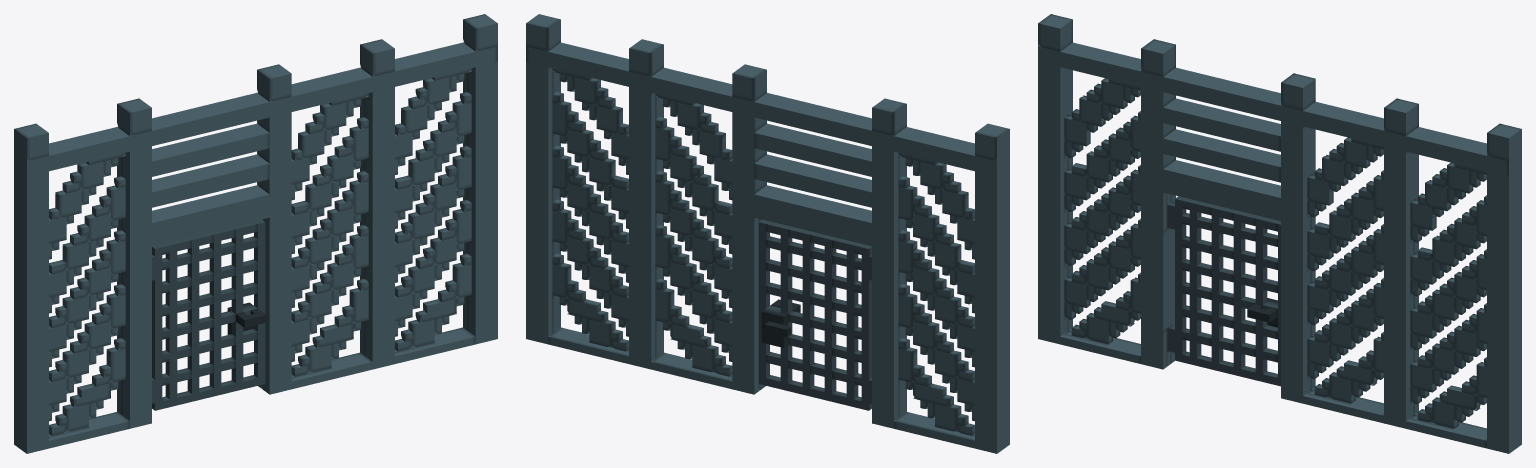
The model's file is płotek_bramka.dae.
The picture shows the model from 3 angles, left to right: view 1: azimuth 30°, elevation 25°; view 2: azimuth 150°, elevation 25°; view 3: azimuth 330°, elevation 25°; orthographic projection.
Parts seen in each view (by area): view 1: Content; view 2: Content; view 3: Content.
Boxes of the visible parts, x1,y1,x2,y2 form: Content: [14, 14, 497, 453]; Content: [526, 14, 1009, 453]; Content: [1038, 14, 1521, 453].
Size of the model in its own units: 64 by 41 by 5.
Materials: 1 (1 with a texture image).
